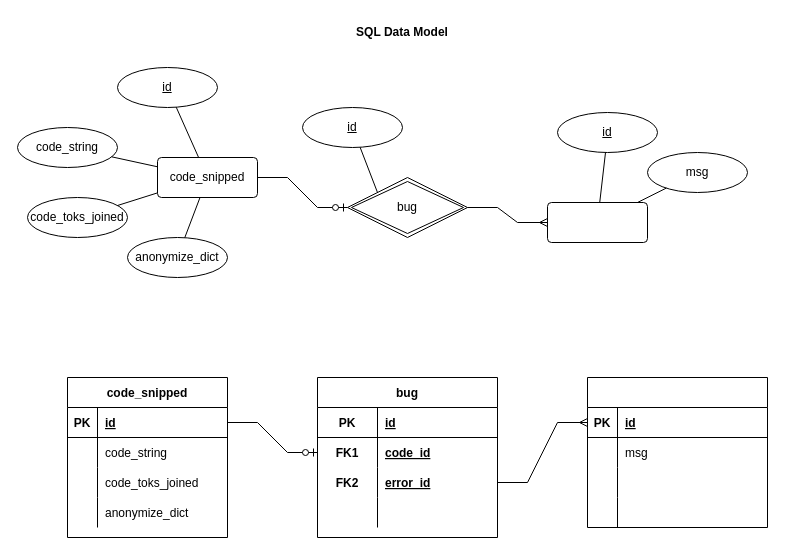
This 785x555 diagram has some shape labels left out. The shapes that lost their labels are listed below. From the top down, each one's box as (x1, y1, x2, y2) in pixels, then its label:
(546, 202, 648, 242): err_obj
(586, 376, 768, 528): error
